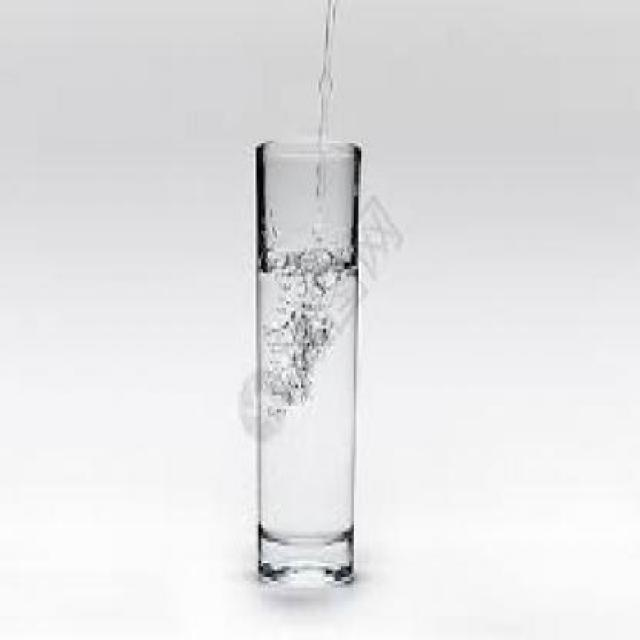kaca: (251, 137, 354, 585)
